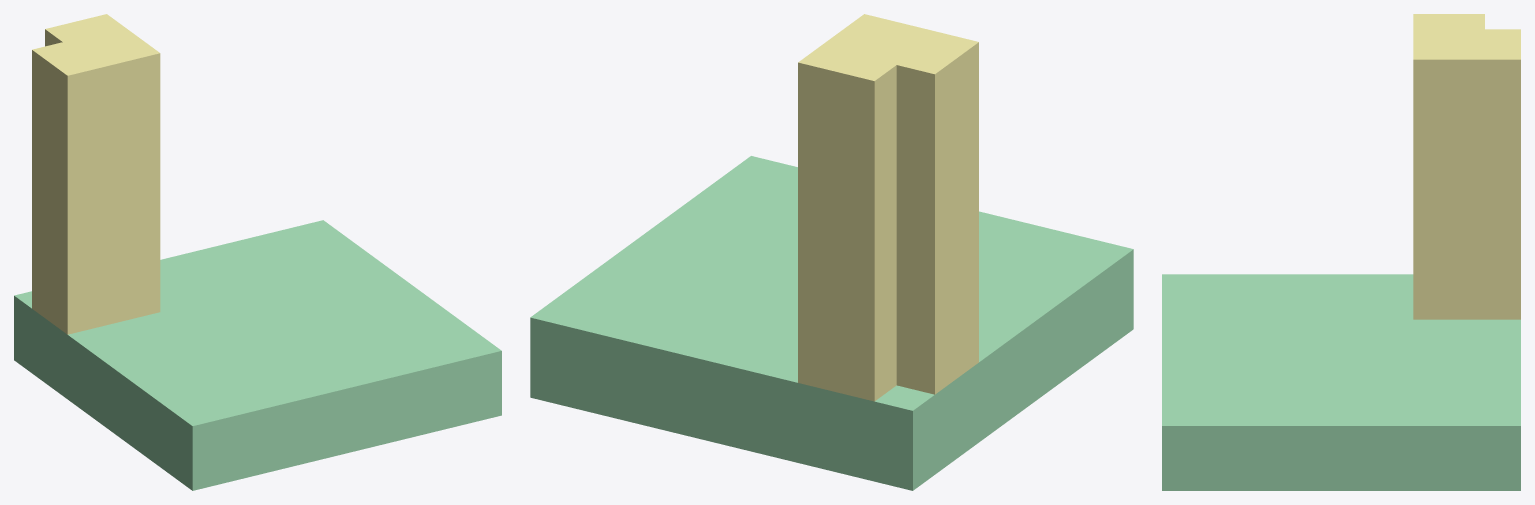
File: BaseWallCorner.fbx
3 renders of one model, left to right at view 1: azimuth 30°, elevation 25°; view 2: azimuth 150°, elevation 25°; view 3: azimuth 270°, elevation 25°, orthographic. The views are drawn at different scales.
Parts seen in each view (by area): view 1: BaseWallCorner; view 2: BaseWallCorner; view 3: BaseWallCorner.
Boxes of the visible parts, bbox=[...] form: BaseWallCorner: bbox=[14, 14, 501, 490]; BaseWallCorner: bbox=[530, 14, 1133, 490]; BaseWallCorner: bbox=[1162, 14, 1520, 490].
Size of the model in its own units: 200 by 200 by 200.
